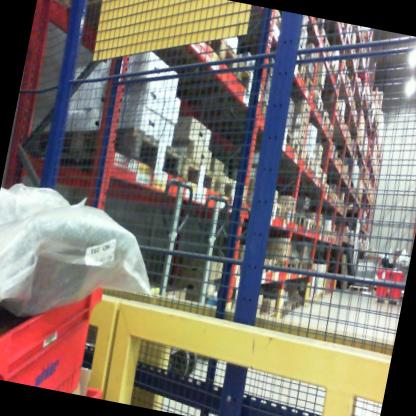pallet: (20, 101, 190, 187), (41, 0, 186, 62), (170, 13, 249, 82), (241, 9, 314, 79), (203, 159, 254, 208), (230, 55, 272, 114), (175, 146, 220, 193), (263, 249, 301, 282), (265, 113, 298, 150), (312, 28, 341, 70), (256, 191, 285, 230), (316, 104, 342, 141), (299, 67, 322, 103), (270, 299, 295, 329), (309, 86, 329, 119), (286, 132, 309, 160), (300, 145, 321, 174), (278, 198, 299, 225), (345, 280, 373, 300), (336, 51, 353, 83), (326, 56, 345, 82), (295, 256, 320, 275), (292, 206, 310, 229), (341, 71, 356, 94), (373, 295, 399, 307), (304, 213, 318, 232), (293, 294, 305, 313), (317, 184, 332, 199), (328, 188, 341, 205)
pallet_truck: (116, 159, 215, 381), (162, 175, 238, 386), (192, 195, 262, 329)
small_load_carrier: (0, 255, 146, 399), (390, 261, 408, 287), (371, 266, 392, 286), (385, 284, 404, 304), (370, 281, 388, 301)
